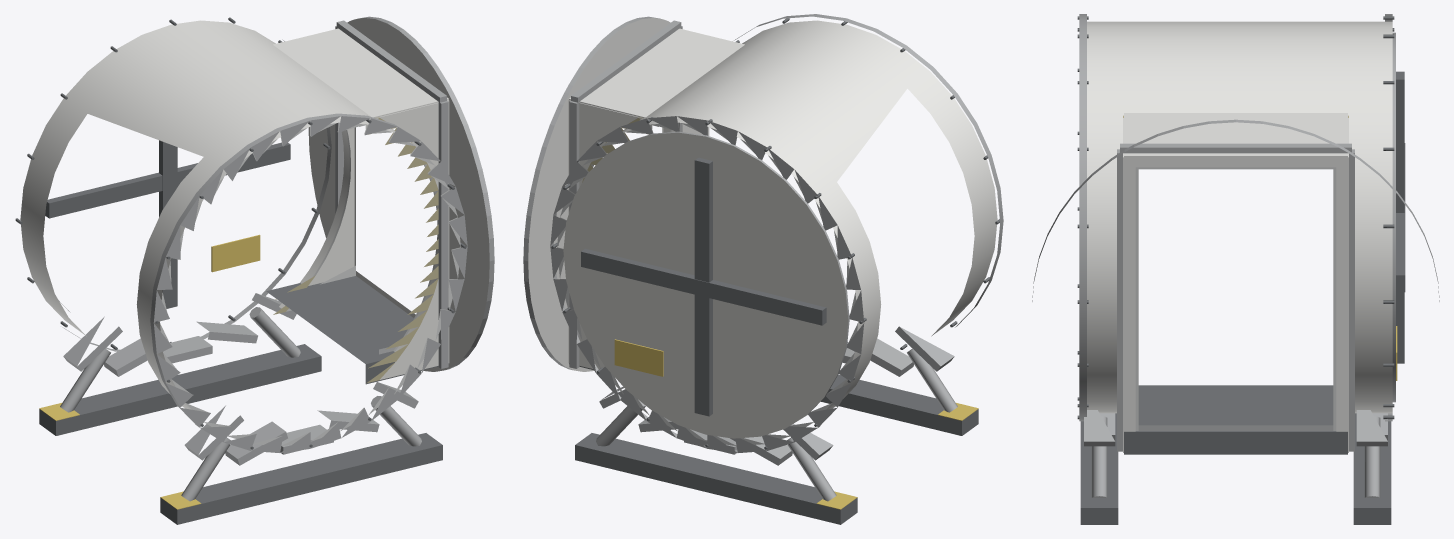
Rendered from habSegJRb_steel.glb.
3 renders of one model, left to right at view 1: azimuth 30°, elevation 25°; view 2: azimuth 150°, elevation 25°; view 3: azimuth 270°, elevation 25°, orthographic. The views are drawn at different scales.
Visible parts, largest first — view 1: habSegJRb_steel; view 2: habSegJRb_steel; view 3: habSegJRb_steel.
Part boxes in pixels (x1,y1,x2,y2): habSegJRb_steel: [15, 16, 494, 524]; habSegJRb_steel: [523, 14, 1003, 524]; habSegJRb_steel: [1032, 14, 1439, 524].
Bounding box in the file's own units: 2.65 × 2.95 × 2.6.
